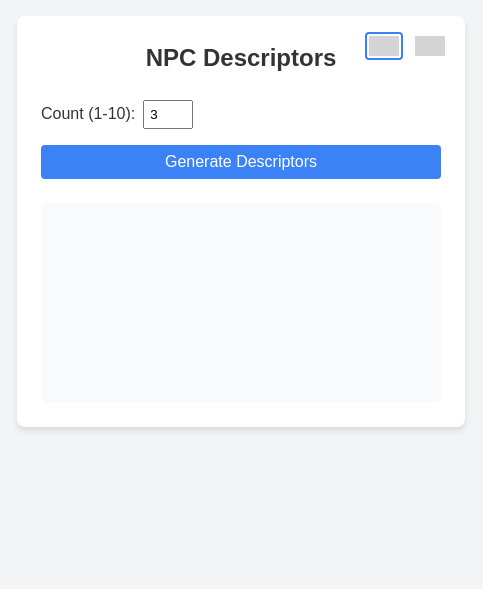
App Component › maintains history of previous rolls
# First roll
Click the button "Generate Descriptors". click: (241, 162)
box: [41, 145, 441, 179]
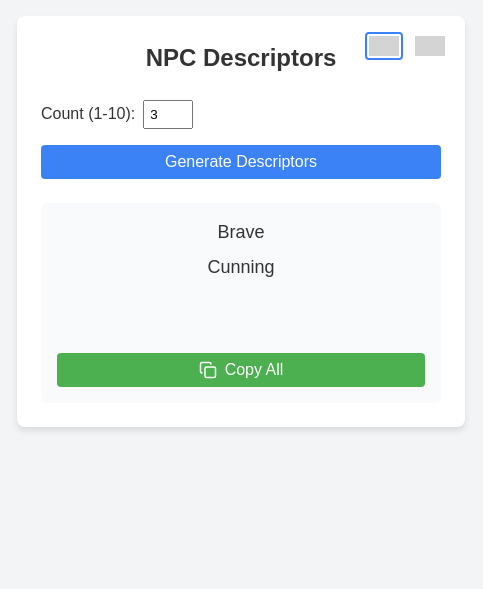
Expected: the list item "Brave" is shown, [218, 222, 264, 242]
# Second roll
Click the button "Generate Descriptors". click: (241, 162)
box: [41, 145, 441, 179]
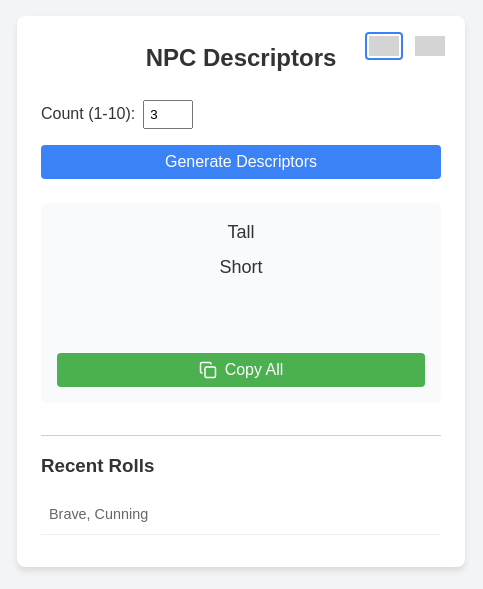
Expected: the list item "Tall" is shown, [228, 222, 254, 242]
Expected: the heading "Recent Rolls" is shown, [41, 455, 154, 476]
Expected: the list item "Brave, Cunning" is shown, [41, 496, 441, 535]
